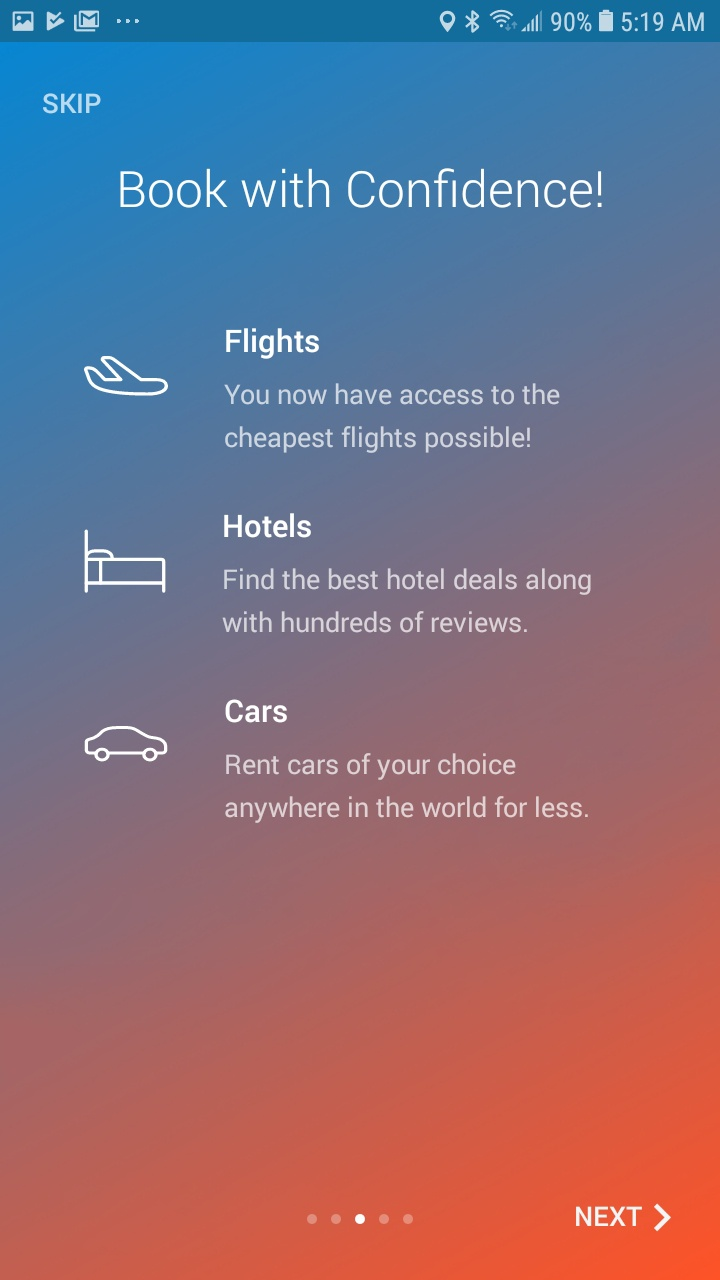Icon: (653, 1203, 672, 1232)
Image: (84, 529, 167, 594), (84, 356, 170, 398), (84, 726, 169, 763)
PageIndicator: (307, 1213, 414, 1225)
Text: (225, 753, 589, 824), (222, 568, 592, 634), (224, 383, 560, 454), (120, 168, 603, 210), (226, 328, 320, 361), (224, 513, 312, 539), (225, 699, 288, 724), (575, 1205, 643, 1227), (43, 93, 102, 115)
UpperTaskBar: (1, 1, 720, 43)
